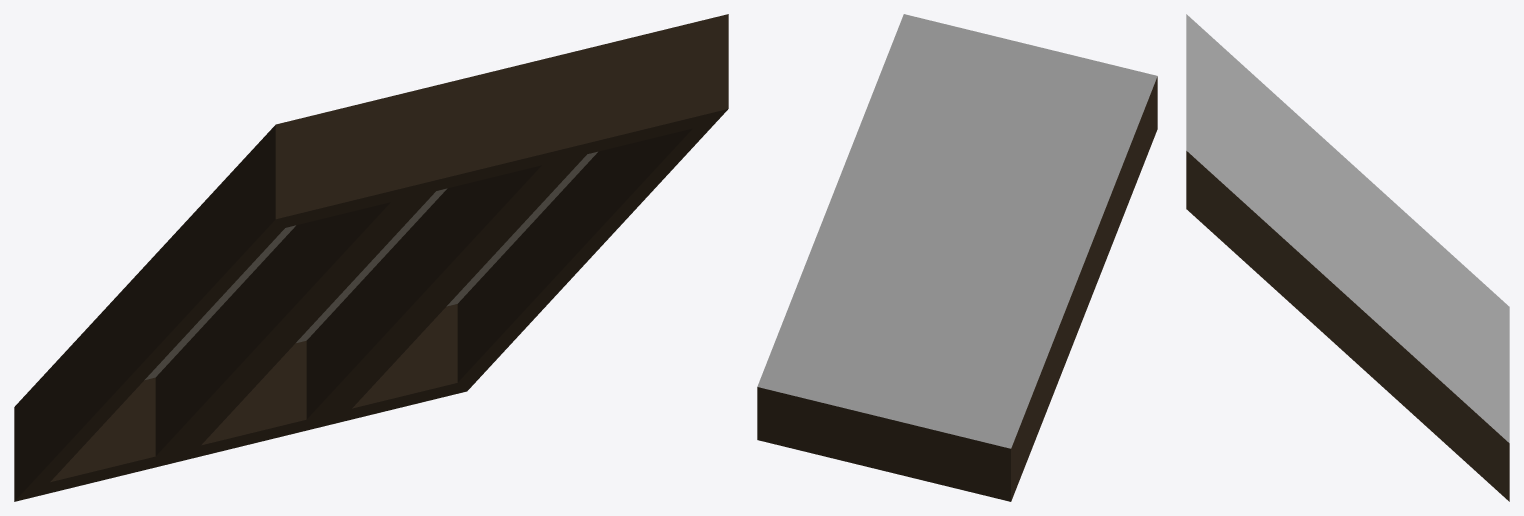
File: Ceiling_3x3_30cmBeams_1mSpacing_CrossBeams.fbx
3 renders of one model, left to right at view 1: azimuth 30°, elevation 25°; view 2: azimuth 150°, elevation 25°; view 3: azimuth 270°, elevation 25°, orthographic. The views are drawn at different scales.
Parts seen in each view (by area): view 1: Ceiling_3x3_30cmBeams_1mSpacing_CrossBeams; view 2: Ceiling_3x3_30cmBeams_1mSpacing_CrossBeams; view 3: Ceiling_3x3_30cmBeams_1mSpacing_CrossBeams.
Part boxes in pixels (bbox=[...]): Ceiling_3x3_30cmBeams_1mSpacing_CrossBeams: bbox=[14, 14, 728, 501]; Ceiling_3x3_30cmBeams_1mSpacing_CrossBeams: bbox=[757, 14, 1157, 501]; Ceiling_3x3_30cmBeams_1mSpacing_CrossBeams: bbox=[1186, 14, 1509, 501].
Bounding box in the file's own units: 3 × 3.6 × 3.
